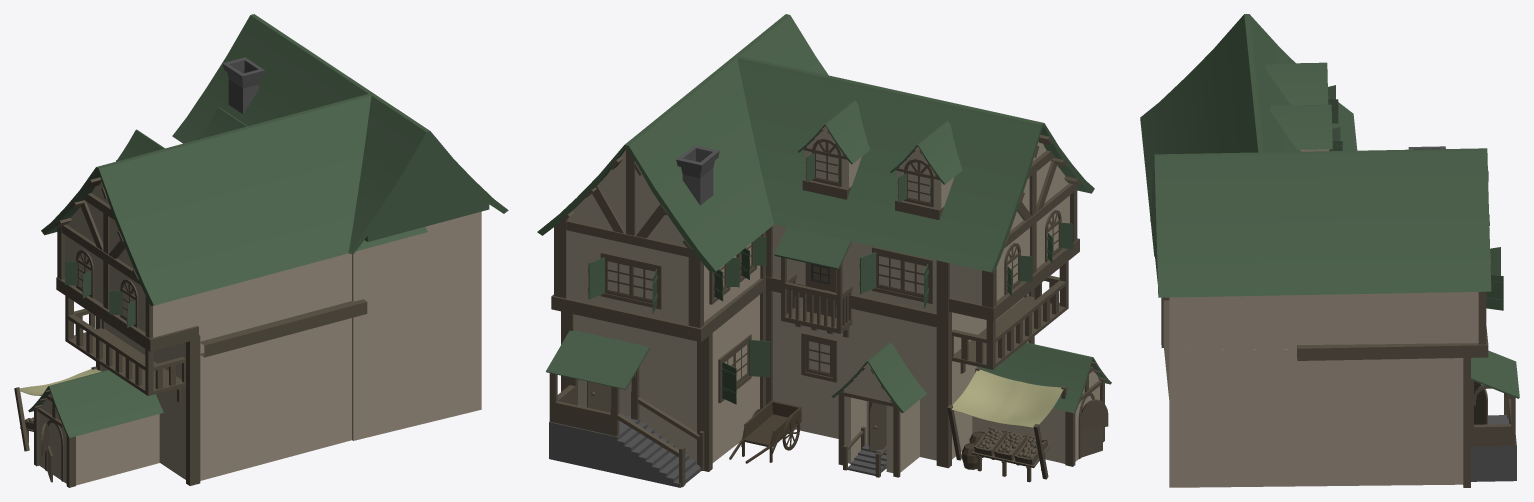
Rendered from tavern.fbx.
3 views of the same model, side by side, from view 1: azimuth 30°, elevation 25°; view 2: azimuth 150°, elevation 25°; view 3: azimuth 270°, elevation 25° (orthographic). The views are drawn at different scales.
Visible parts, largest first — view 1: tavern; view 2: tavern, door_2, Window_Shutters_69, door_1, Window_Shutters_79, Window_Shutters_71; view 3: tavern, Window_Shutters_71, door_1.
Boxes of the visible parts, bbox=[...] form: tavern: bbox=[14, 14, 508, 487]; tavern: bbox=[537, 14, 1111, 487]; door_2: bbox=[869, 402, 886, 451]; Window_Shutters_69: bbox=[749, 340, 770, 377]; door_1: bbox=[587, 381, 611, 412]; Window_Shutters_79: bbox=[859, 252, 876, 293]; Window_Shutters_71: bbox=[588, 257, 604, 299]; tavern: bbox=[1140, 14, 1519, 487]; Window_Shutters_71: bbox=[1486, 274, 1503, 310]; door_1: bbox=[1474, 381, 1487, 424].
Bounding box in the file's own units: 1686 × 1137 × 1281.
